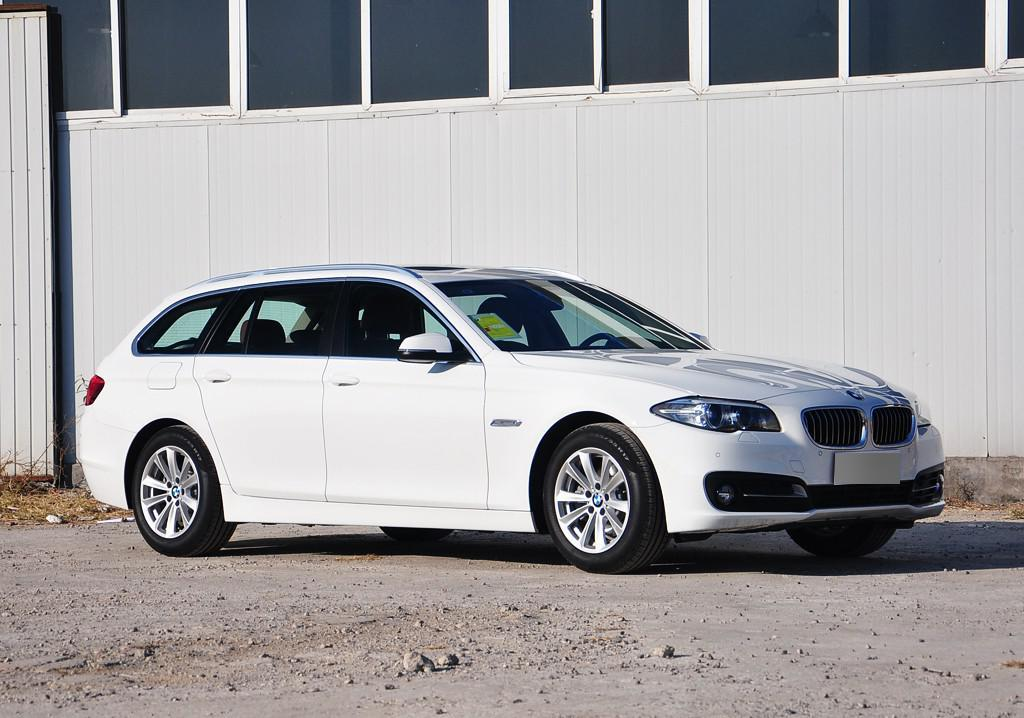Wagon: (76, 262, 945, 574)
